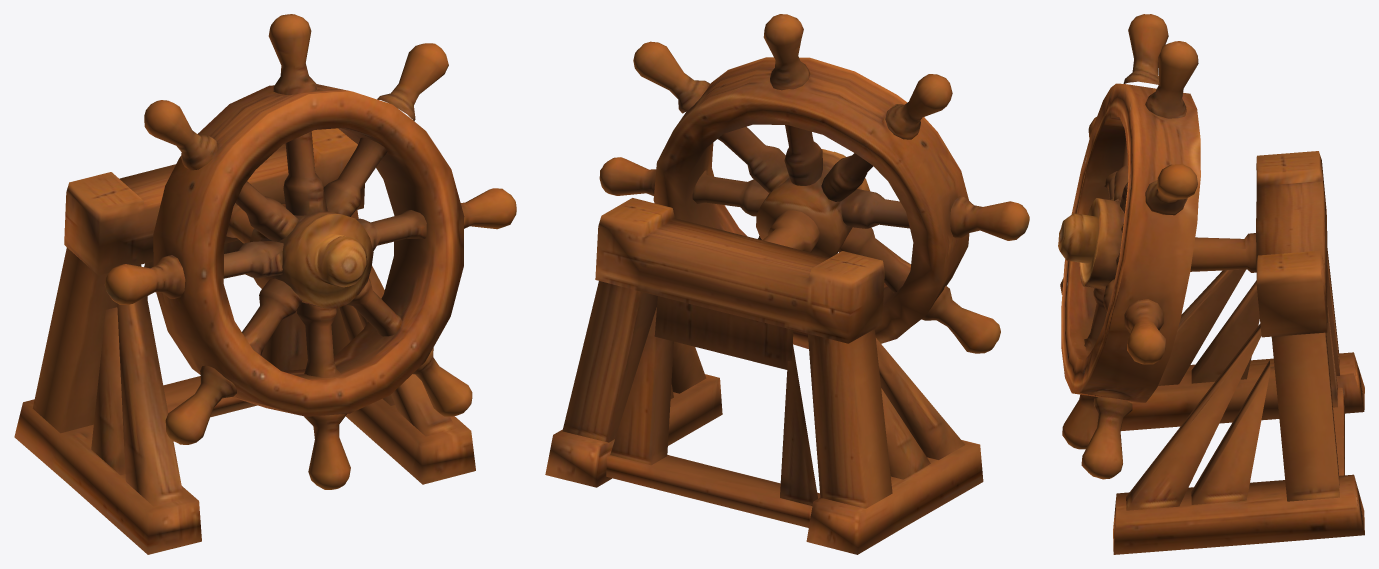
The model's file is helm.glb.
The picture shows the model from 3 angles, left to right: view 1: azimuth 30°, elevation 25°; view 2: azimuth 150°, elevation 25°; view 3: azimuth 270°, elevation 25°; orthographic projection. The views are drawn at different scales.
Parts seen in each view (by area): view 1: helm; view 2: helm; view 3: helm.
Part boxes in pixels (left/top/right/bottom): helm: left=14, top=14, right=516, bottom=554; helm: left=545, top=14, right=1029, bottom=554; helm: left=1058, top=14, right=1364, bottom=554.
Bounding box in the file's own units: 1.42 × 1.5 × 0.9359.
1 material, 1 textured.
